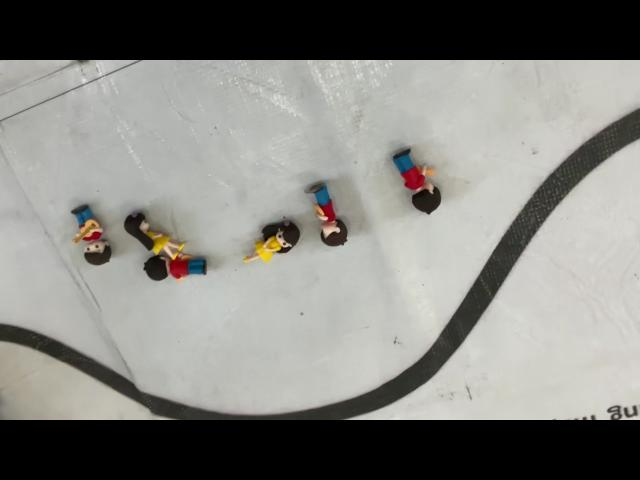man: (389, 147, 447, 217), (304, 177, 352, 248), (70, 201, 114, 269), (140, 253, 212, 283)
woman: (122, 209, 188, 261), (241, 216, 301, 273)
